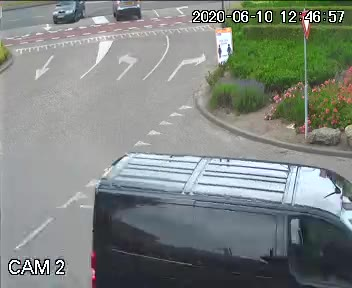car: (83, 136, 352, 288), (50, 0, 82, 28), (109, 1, 142, 24)
